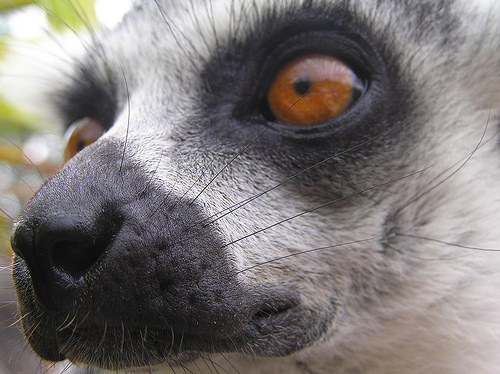cat: (2, 2, 499, 373)
